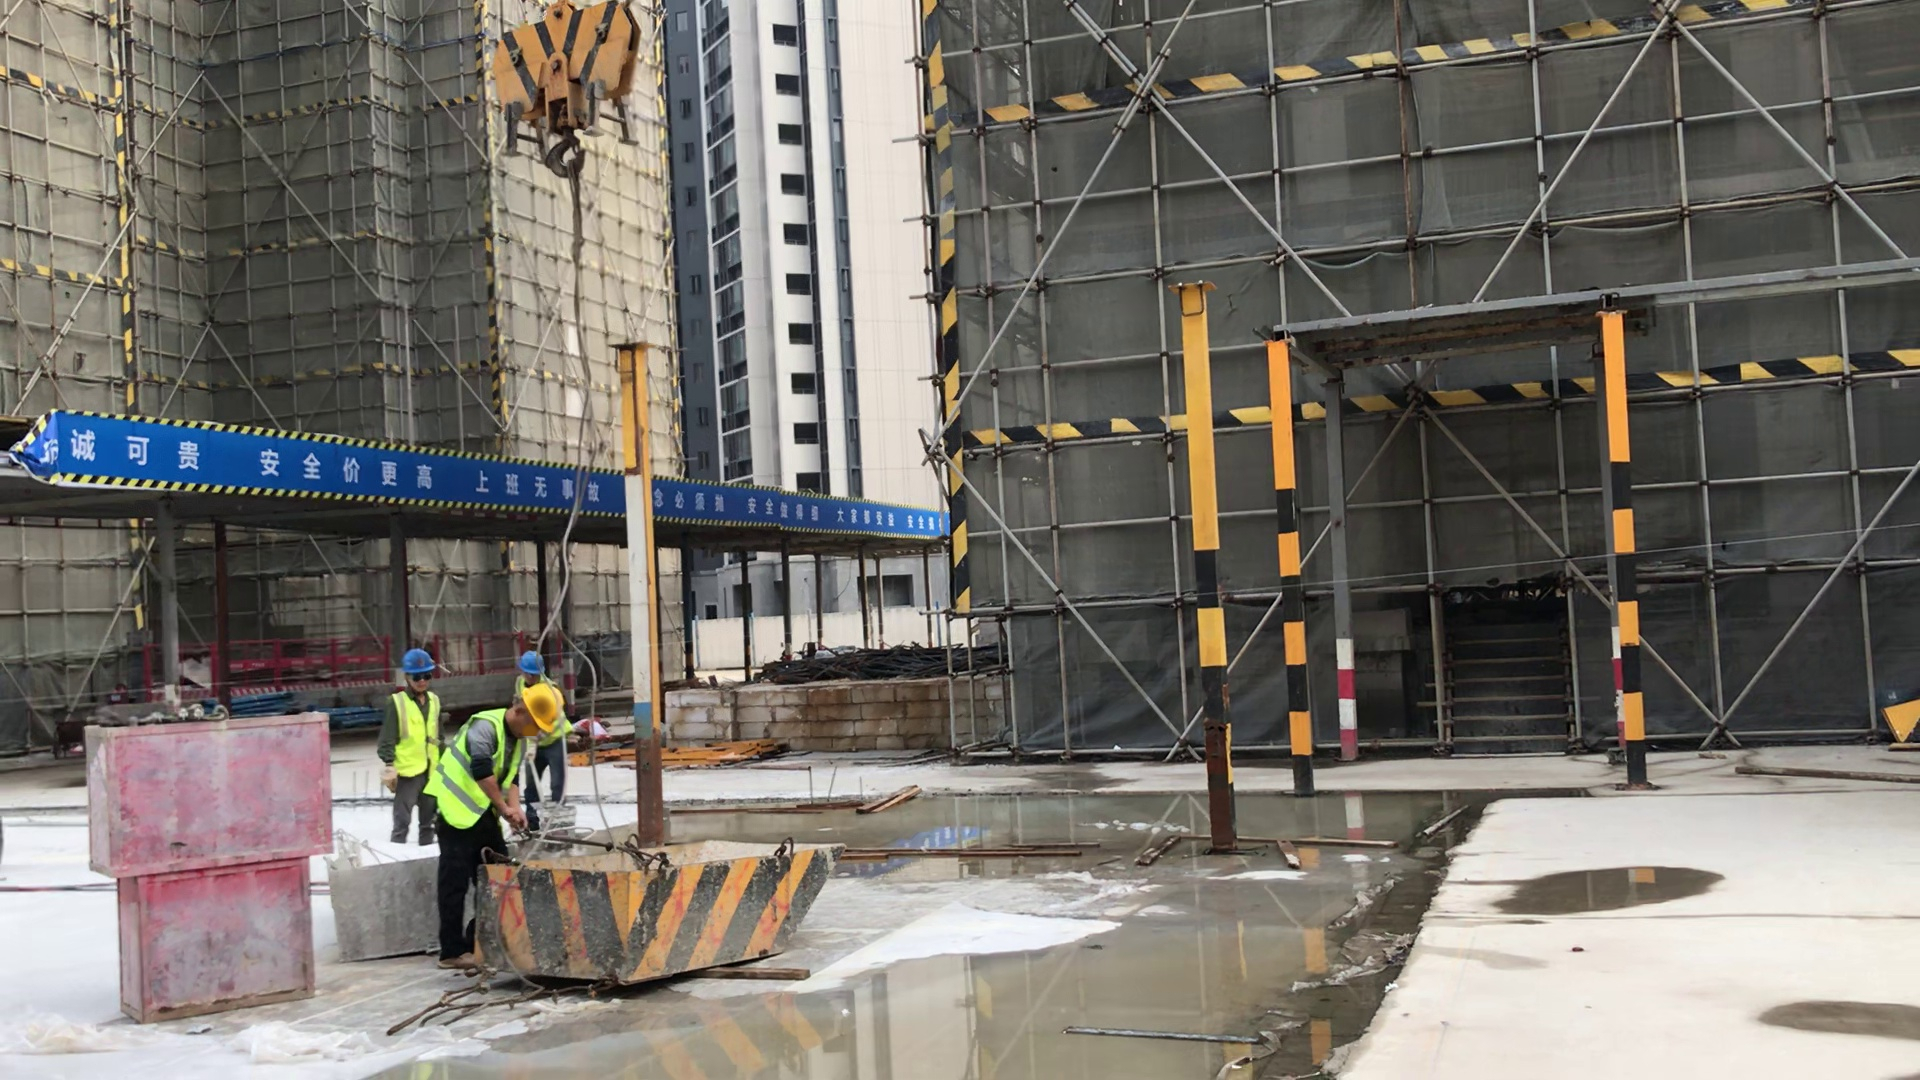fence: (55, 408, 618, 524), (656, 475, 934, 549), (233, 638, 380, 691), (441, 631, 508, 674)
helmet: (520, 684, 563, 734), (401, 647, 437, 680), (517, 650, 544, 676)
hopper: (487, 837, 847, 990), (324, 838, 440, 967)
person: (427, 683, 563, 967), (379, 645, 442, 844)
vest: (429, 708, 525, 834), (390, 687, 442, 781)
